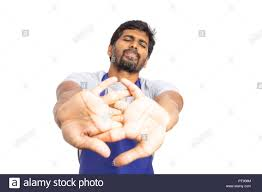Indian_Male: (110, 22, 158, 74)
